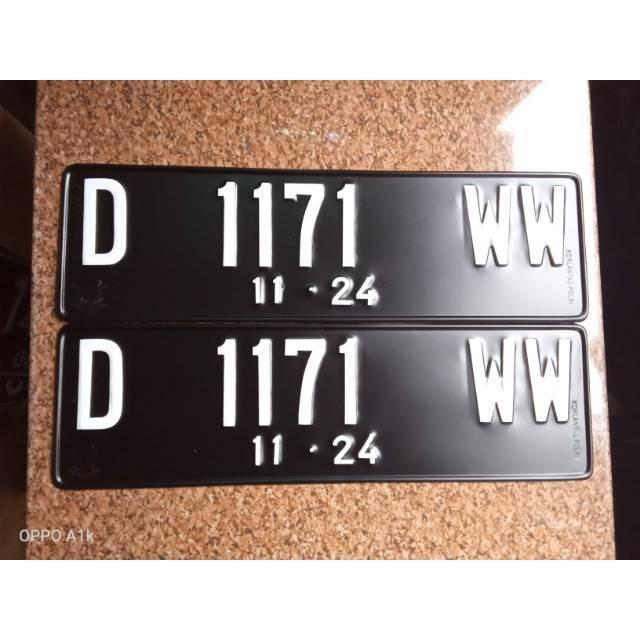1: (248, 174, 278, 273), (214, 177, 244, 275), (336, 334, 363, 430), (213, 336, 240, 430), (250, 334, 276, 429), (335, 180, 361, 271)
7: (280, 332, 330, 428), (280, 177, 328, 272)
D: (78, 172, 134, 274), (74, 333, 128, 437)
W: (462, 334, 520, 431), (520, 334, 574, 431), (460, 181, 514, 270), (515, 181, 568, 270)
